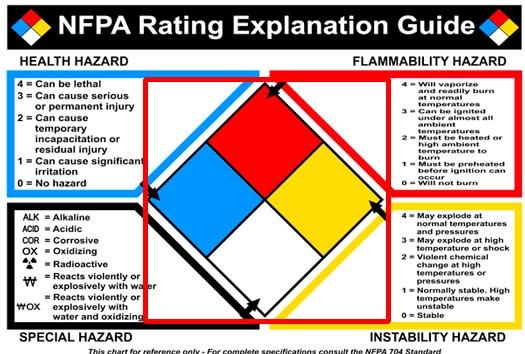nfpa: (145, 79, 388, 321)
